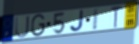5: (52, 11, 66, 35)
G: (30, 13, 47, 38)
I: (92, 8, 100, 32)
J: (69, 9, 86, 33)
T: (110, 6, 123, 29)
U: (14, 15, 31, 39)
